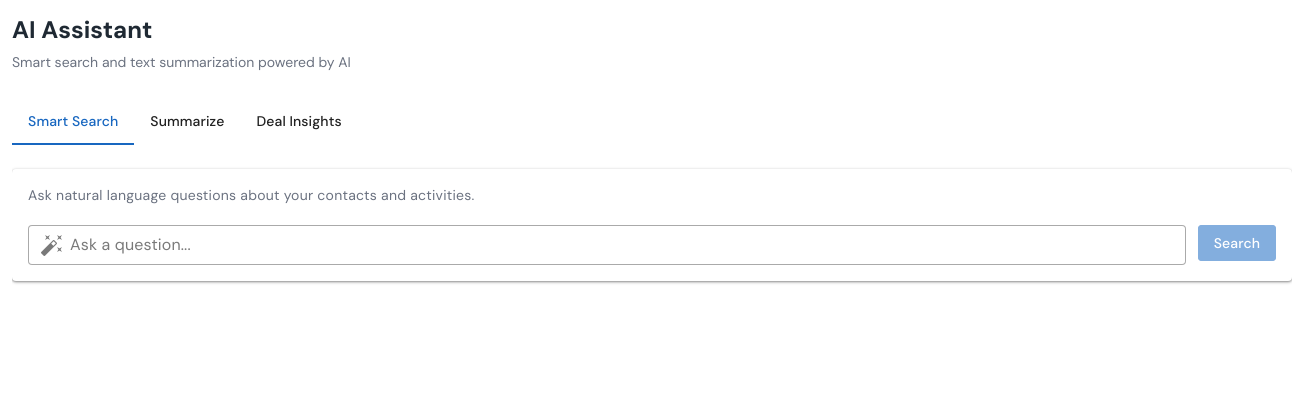
Test: AiPanelPage › performs a smart search and displays streamed results
Type "recent contacts at Acme" into the field labelled "Ask a question...". click: (625, 245)
box: [64,225,1186,265]
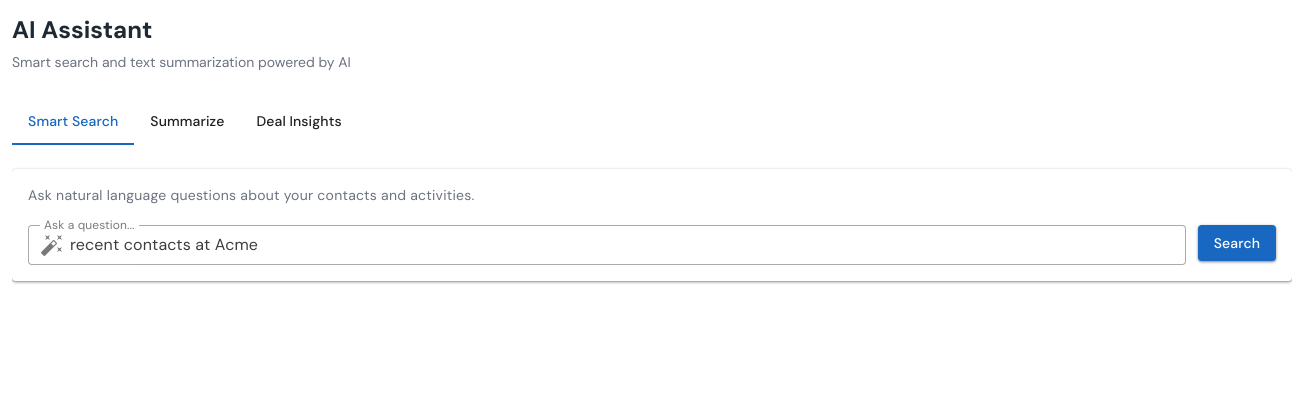
Click the button "Search". click: (1237, 243)
box: [1198,225,1276,261]
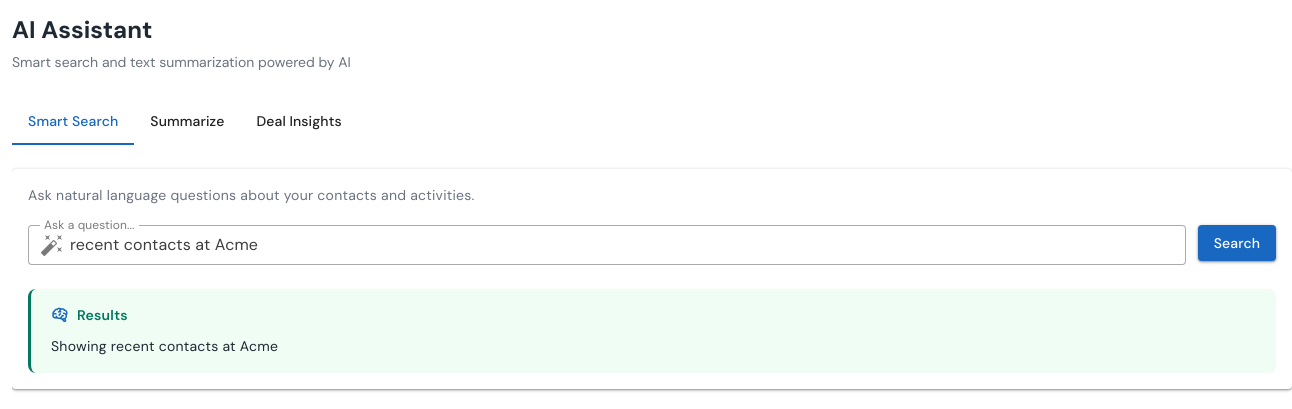
Result: the text "Showing recent contacts at Acme" is shown at [51,337,278,355]
